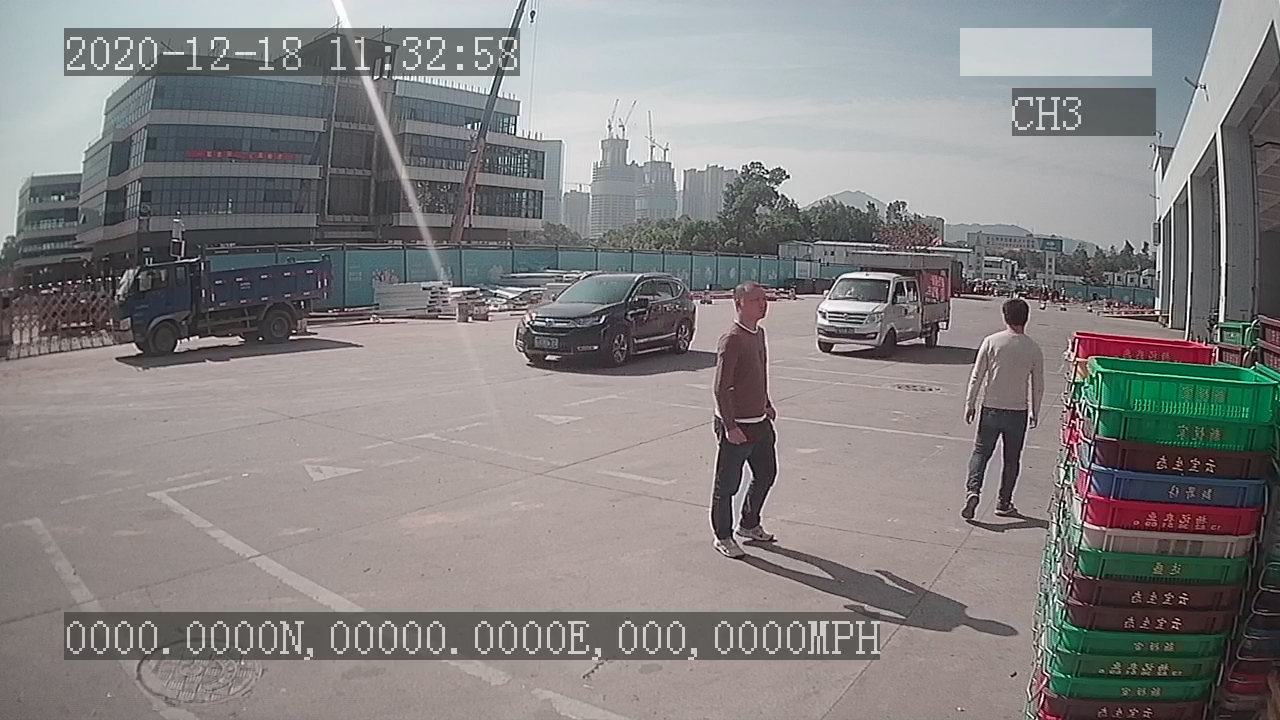person: (958, 299, 1044, 523)
